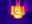Hotspot: (11, 6, 25, 18)
